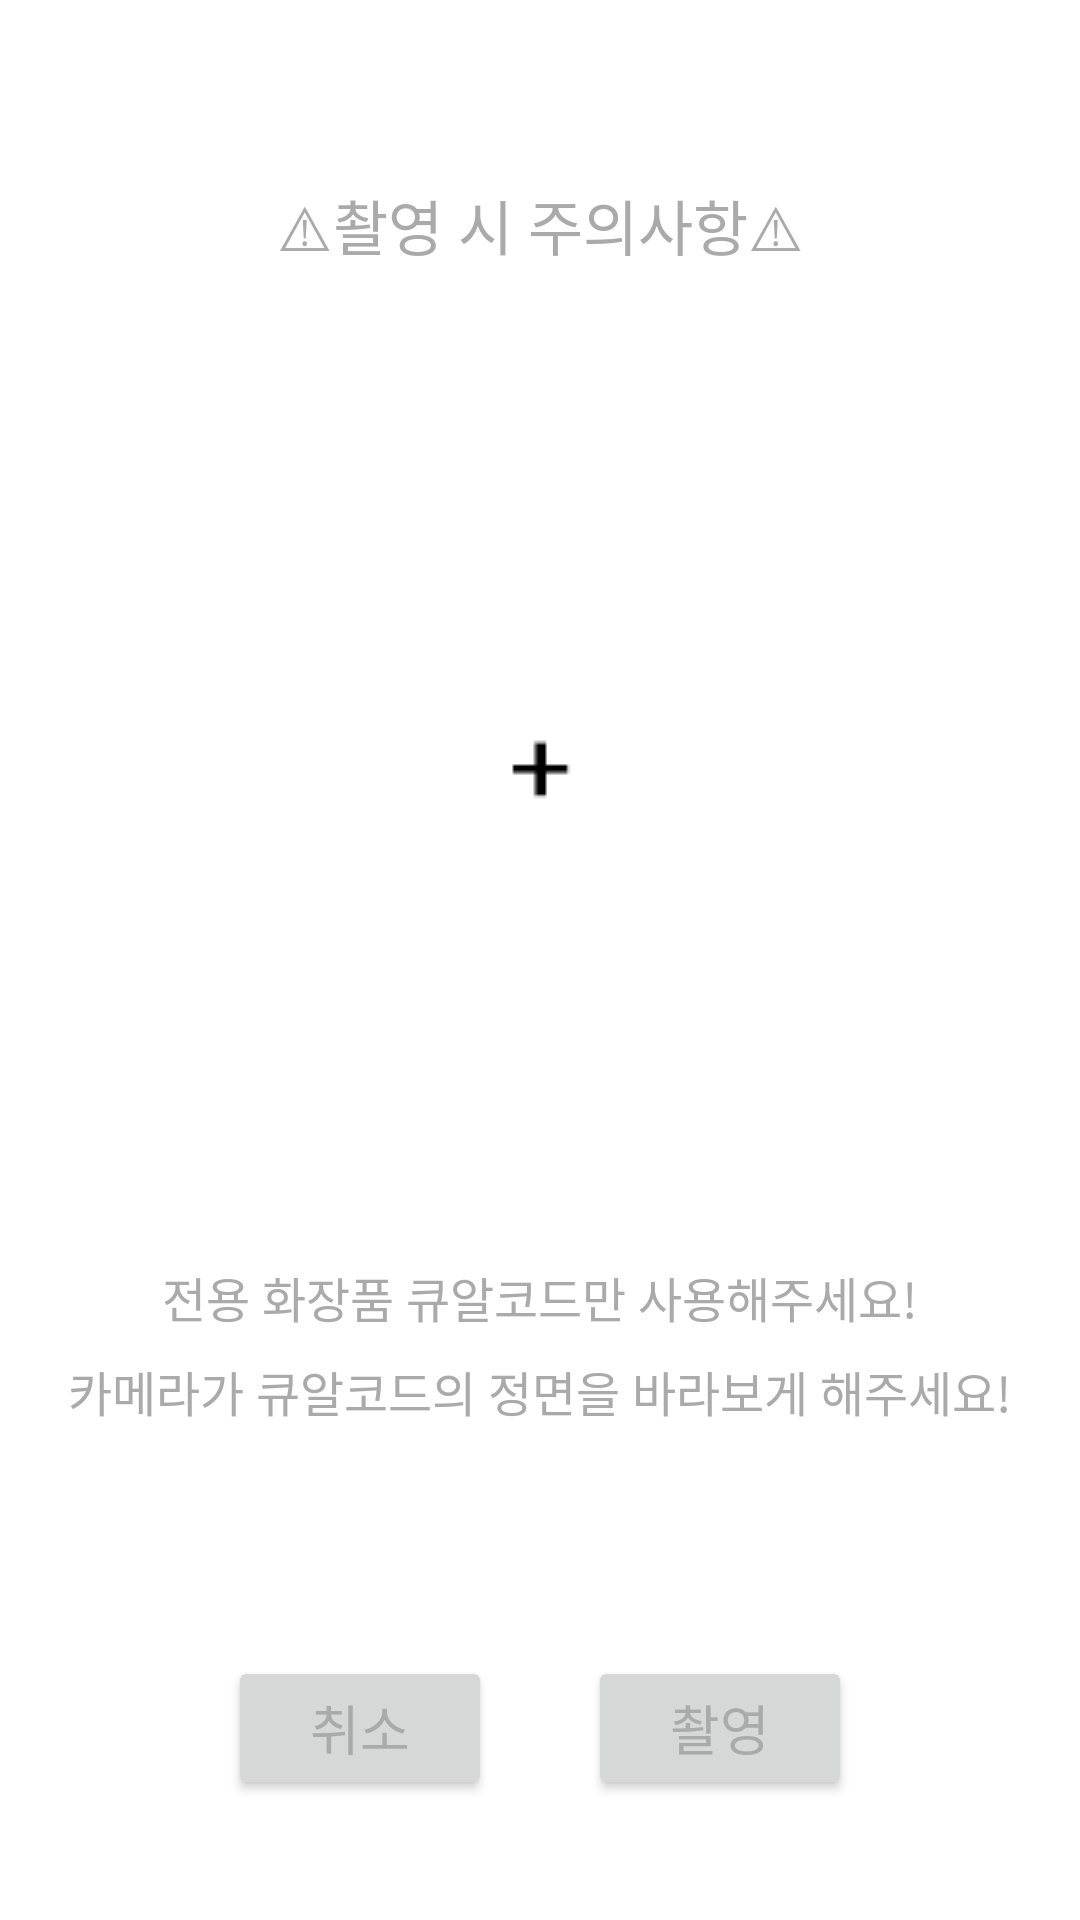

Icons on this 1080 × 1920 Android screen, each with the point to tap as (x,y):
add: (541,769)
